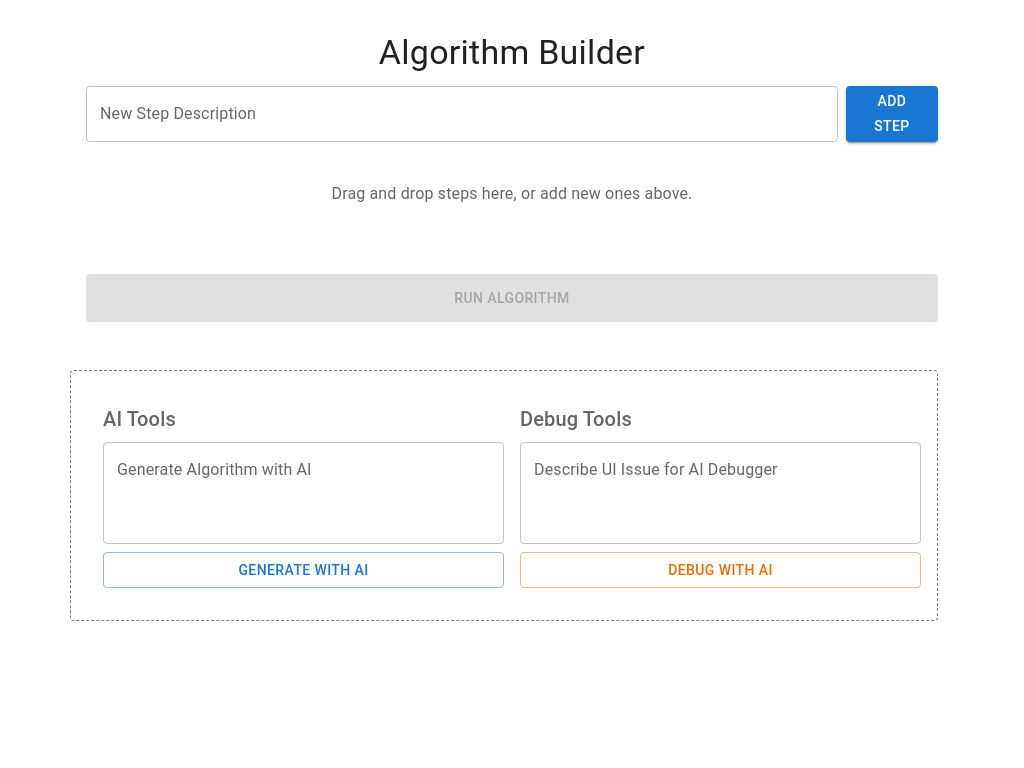
Test: AlgorithmBuilderPage - Core Logic › addStep functionality: adds a new step and clears input
Type "First test step" into the field labelled "New Step Description".
click(462, 114); type("First test step")  # box x1=86 y1=86 x2=838 y2=142
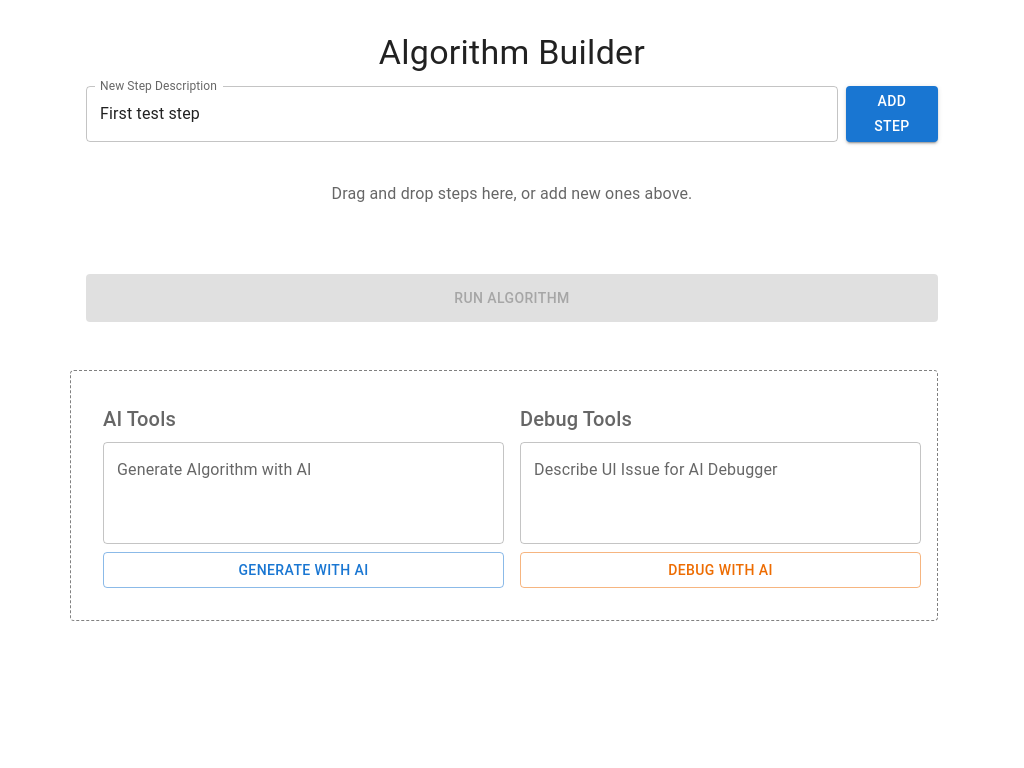
Click the button "Add Step".
click(892, 114)  # box x1=846 y1=86 x2=938 y2=142
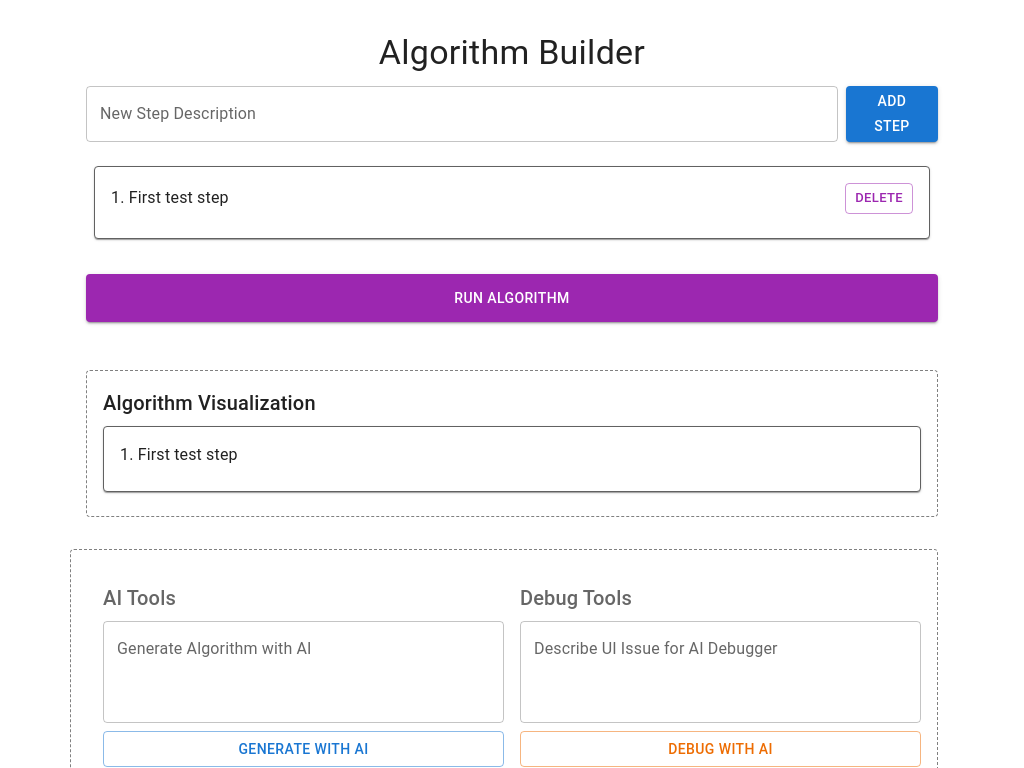
Expected: the 1st text "1. First test step" is shown, x1=111 y1=186 x2=229 y2=210
Expected: the field labelled "New Step Description" is empty
Type "Second test step" into the field labelled "New Step Description".
click(462, 114); type("Second test step")  # box x1=86 y1=86 x2=838 y2=142
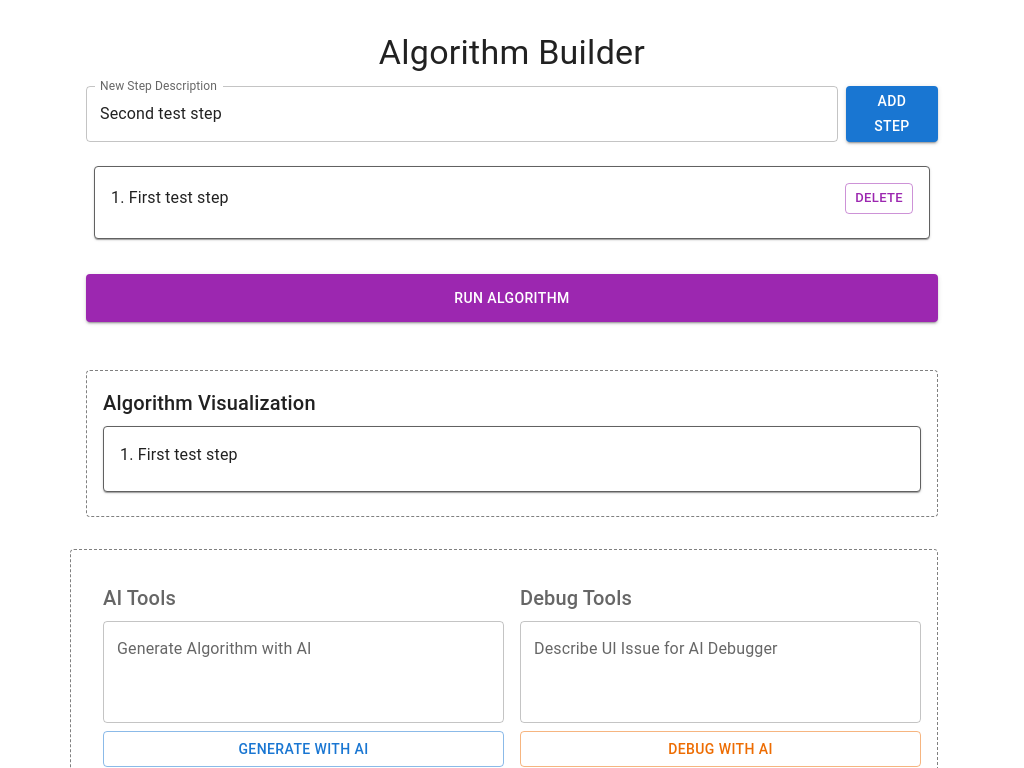
Click the button "Add Step".
click(892, 114)  # box x1=846 y1=86 x2=938 y2=142
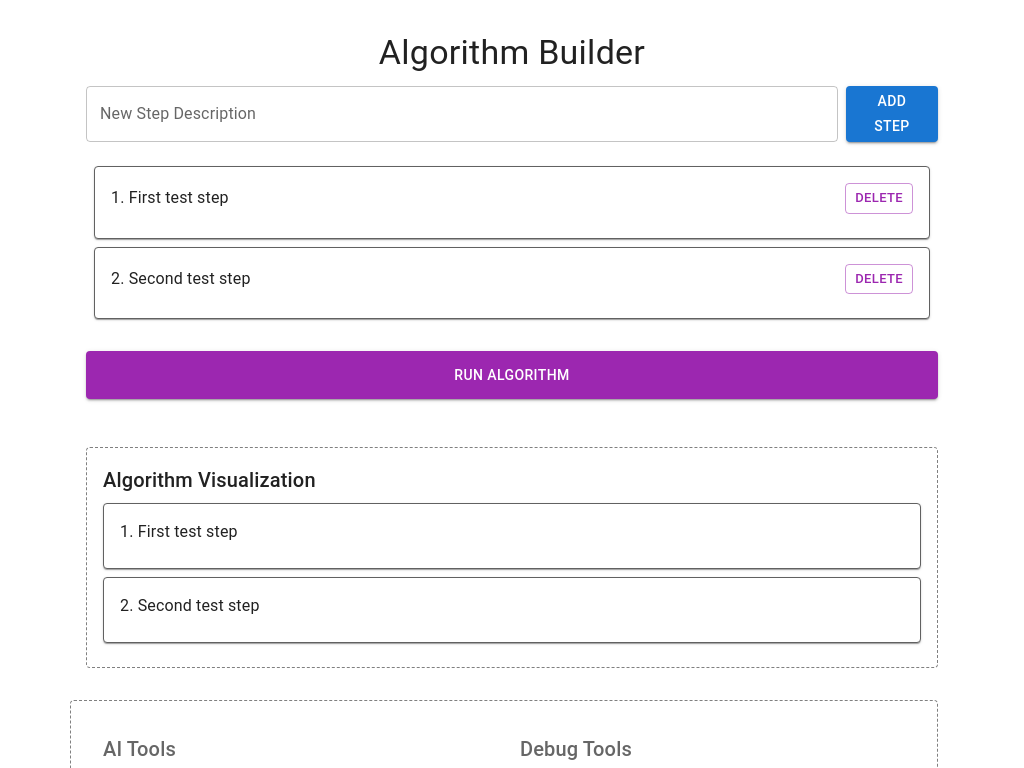
Expected: the 1st text "1. First test step" is shown, x1=111 y1=186 x2=229 y2=210
Expected: the 1st text "2. Second test step" is shown, x1=111 y1=267 x2=250 y2=291
Expected: the field labelled "New Step Description" is empty, x1=86 y1=86 x2=838 y2=142
